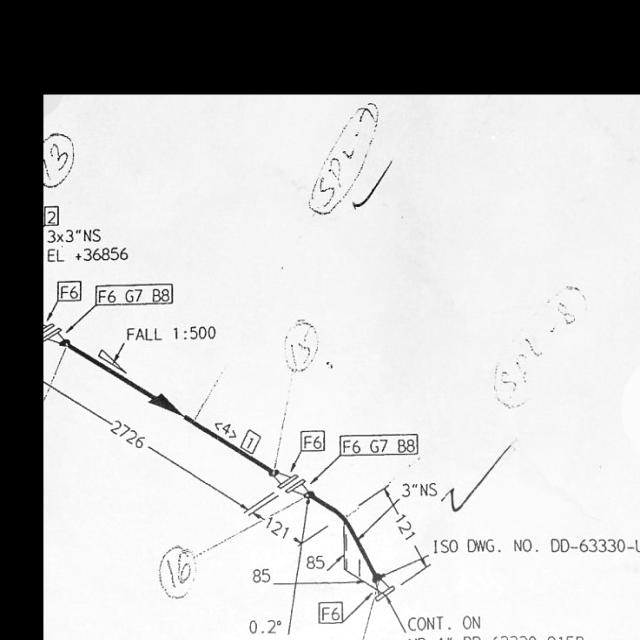Item number: (337, 431, 421, 458), (94, 281, 175, 308), (317, 598, 345, 625), (56, 277, 84, 304), (239, 425, 263, 455), (300, 427, 327, 453), (44, 203, 60, 227)
Measrement: (45, 372, 260, 519), (378, 481, 434, 569), (247, 554, 356, 588), (248, 506, 310, 552), (301, 547, 347, 579)
Pipeline: (66, 339, 272, 472)
Symbol: (142, 386, 185, 424), (271, 466, 314, 500), (359, 568, 396, 604), (41, 312, 70, 351)
Weld number: (156, 543, 201, 602), (281, 316, 323, 376), (43, 127, 77, 191)
other: (401, 608, 588, 639), (46, 224, 132, 265), (124, 322, 221, 346)
